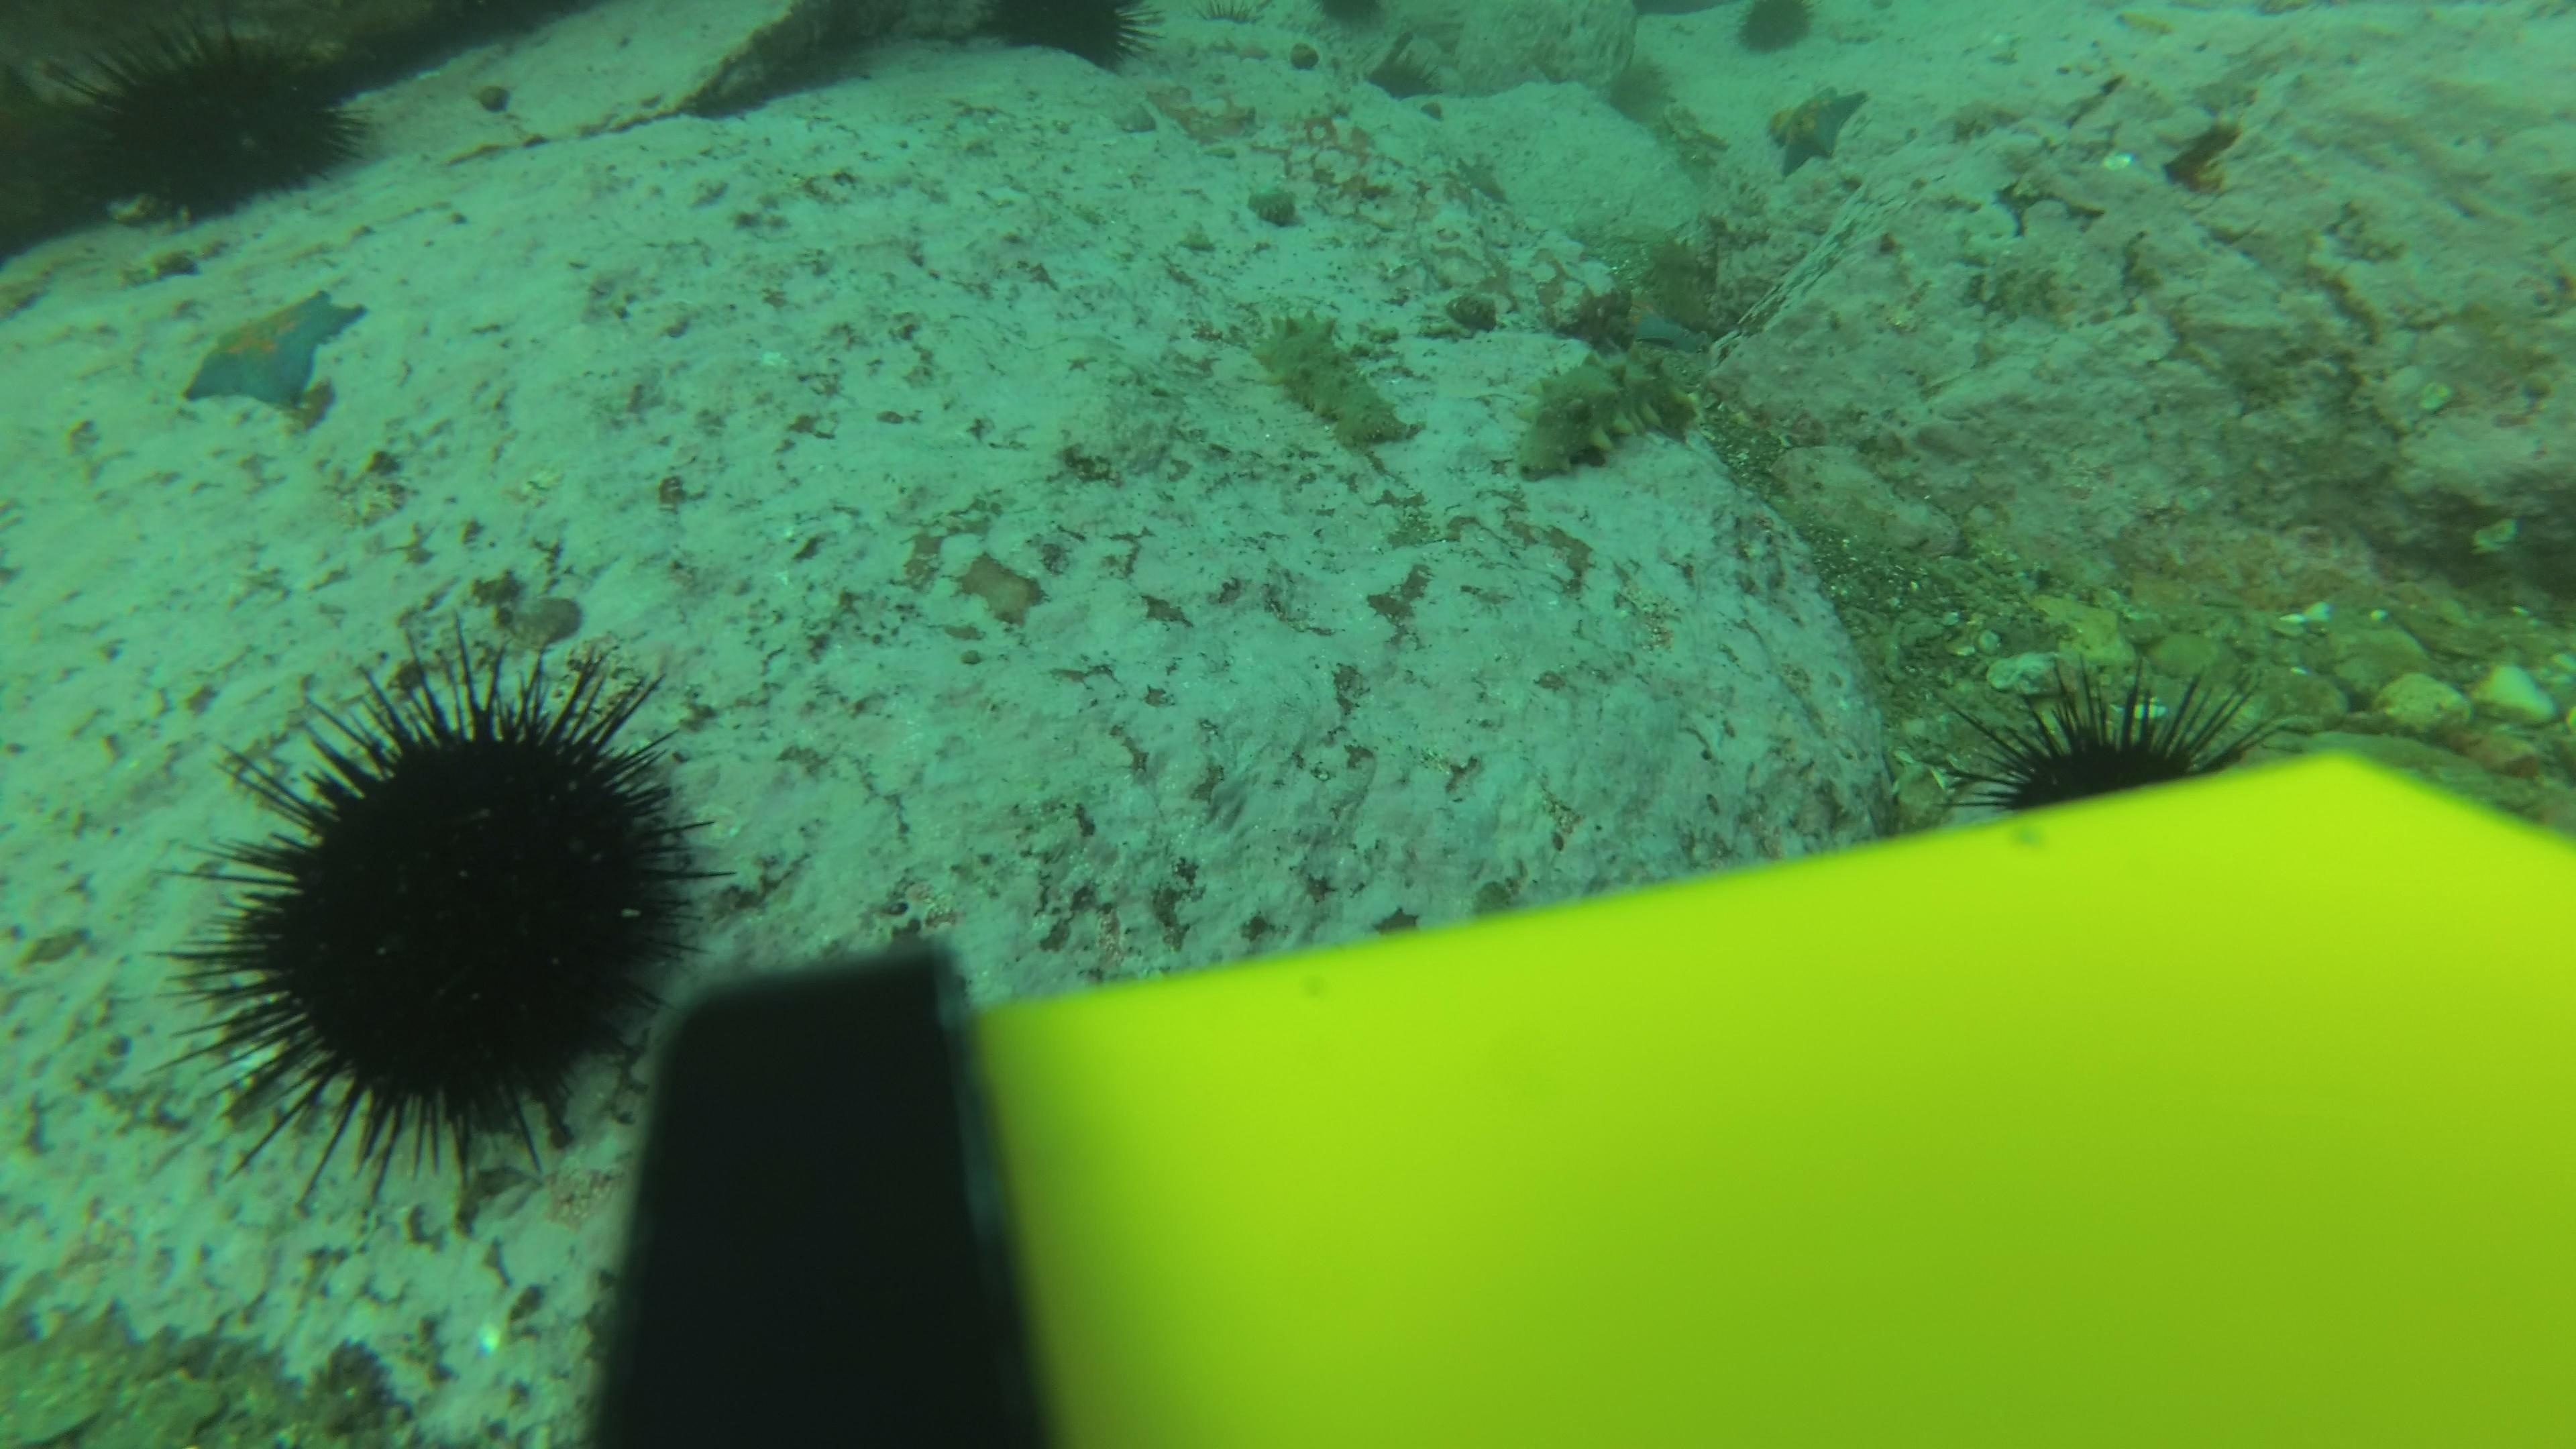echinus: (180, 644, 718, 1182), (67, 14, 375, 223), (1953, 653, 2275, 814), (971, 0, 1155, 78), (1729, 0, 1819, 62)
holothurian: (1504, 343, 1711, 485), (1247, 303, 1419, 455), (1626, 234, 1734, 334)
starfish: (175, 283, 372, 419), (1762, 81, 1870, 177), (1617, 288, 1721, 357), (1651, 99, 1732, 170), (1444, 150, 1513, 211)
